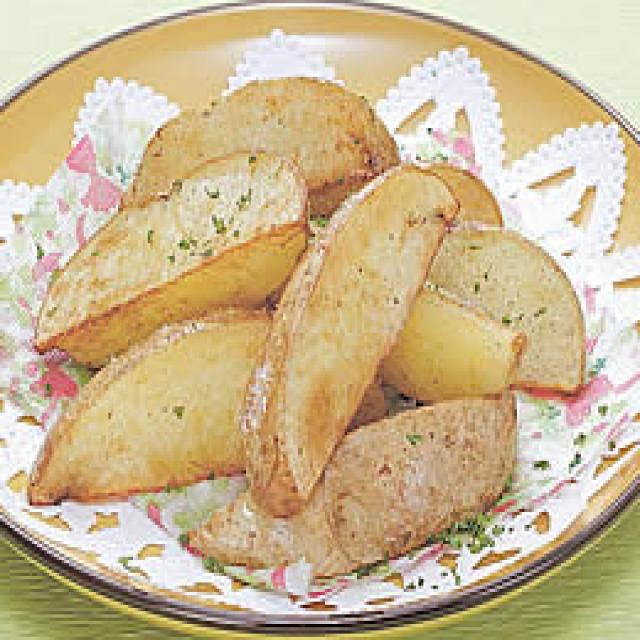French Fries: (37, 67, 570, 547)
